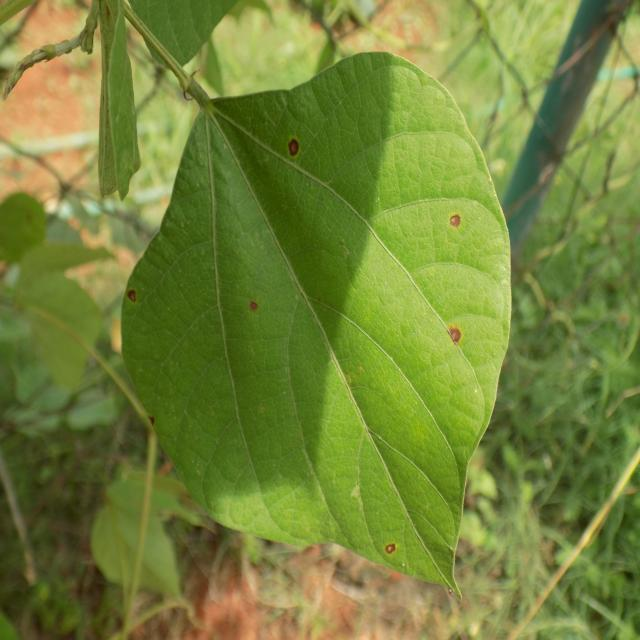Dolicos bean_cercospora leaf spot: (122, 44, 514, 602)
